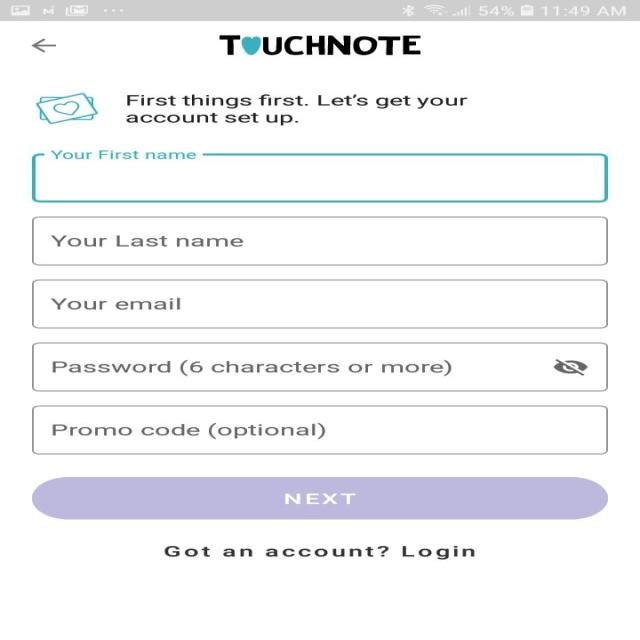EditText: (31, 150, 608, 202), (31, 405, 608, 454), (31, 342, 608, 391), (31, 279, 608, 328), (31, 216, 608, 265)
Icon: (552, 358, 588, 376), (31, 38, 57, 53)
Image: (218, 34, 420, 56), (36, 92, 98, 124)
Text: (125, 94, 468, 126), (52, 360, 452, 376), (163, 545, 474, 560), (51, 423, 326, 439), (50, 235, 244, 247), (51, 297, 180, 310), (51, 150, 198, 160)
TextButton: (31, 476, 607, 520)
